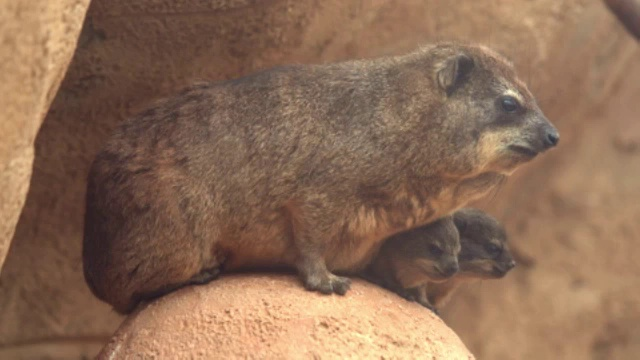Rock Hyrex: (79, 37, 561, 318), (370, 199, 462, 306), (454, 208, 517, 278)
